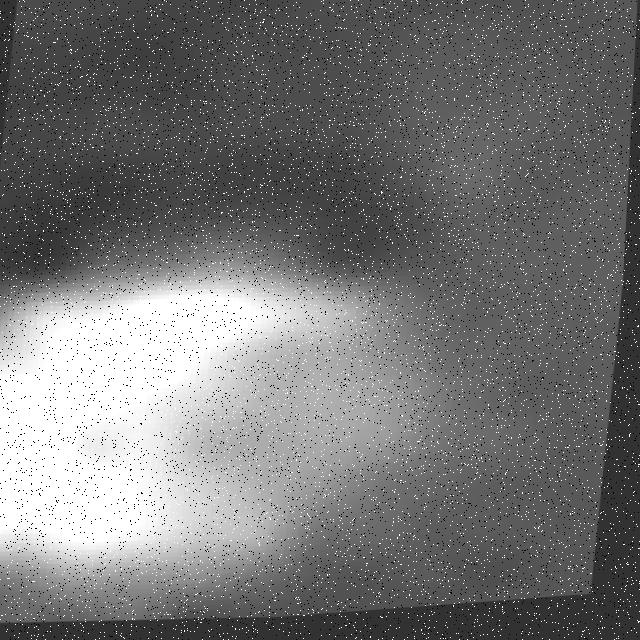person: (1, 214, 545, 640)
